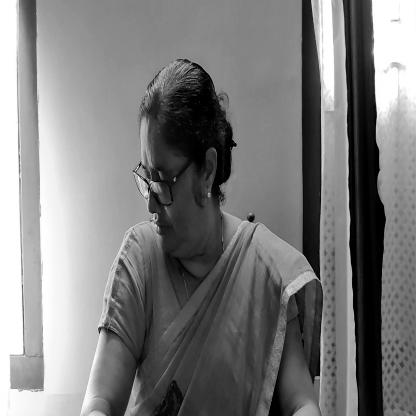Distracted: (134, 71, 239, 259)
